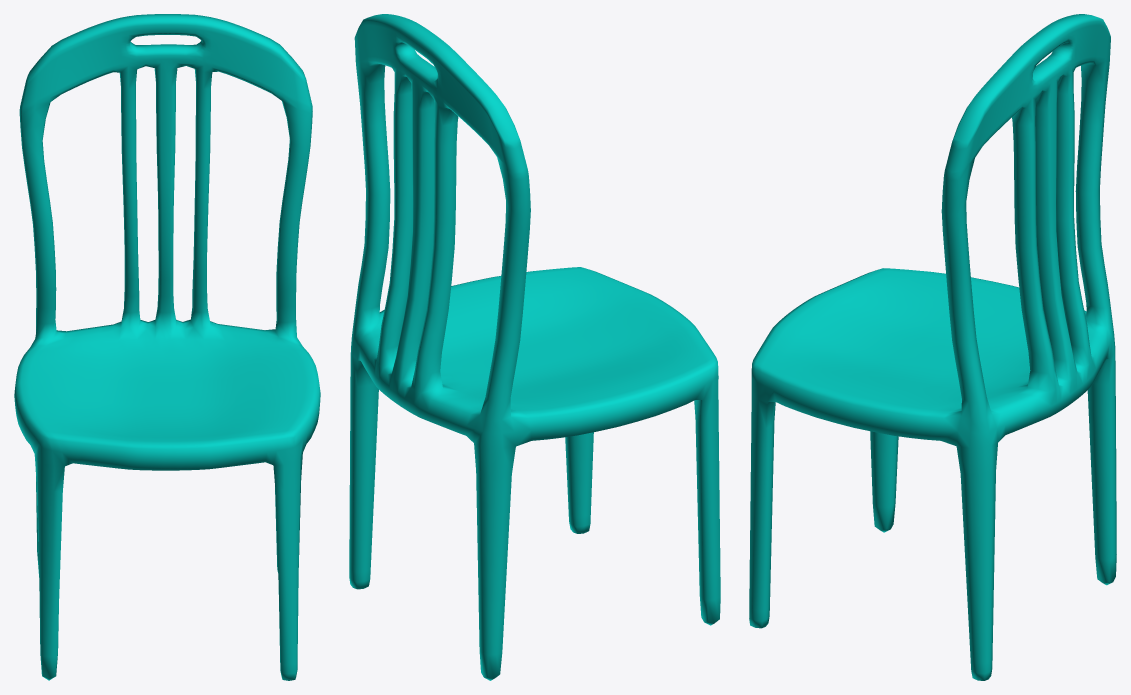
File: Kursi Plastik.fbx
The picture shows the model from 3 angles, left to right: view 1: azimuth 30°, elevation 25°; view 2: azimuth 150°, elevation 25°; view 3: azimuth 270°, elevation 25°; orthographic projection. The views are drawn at different scales.
Visible parts, largest first — view 1: Kursi Plastik; view 2: Kursi Plastik; view 3: Kursi Plastik.
Part boxes in pixels (x1,y1,x2,y2): Kursi Plastik: (14,14,320,680); Kursi Plastik: (349,14,720,680); Kursi Plastik: (749,14,1116,680).
Size of the model in its own units: 0.9014 by 1.59 by 0.8855.
Materials: 1 (1 with a texture image).
